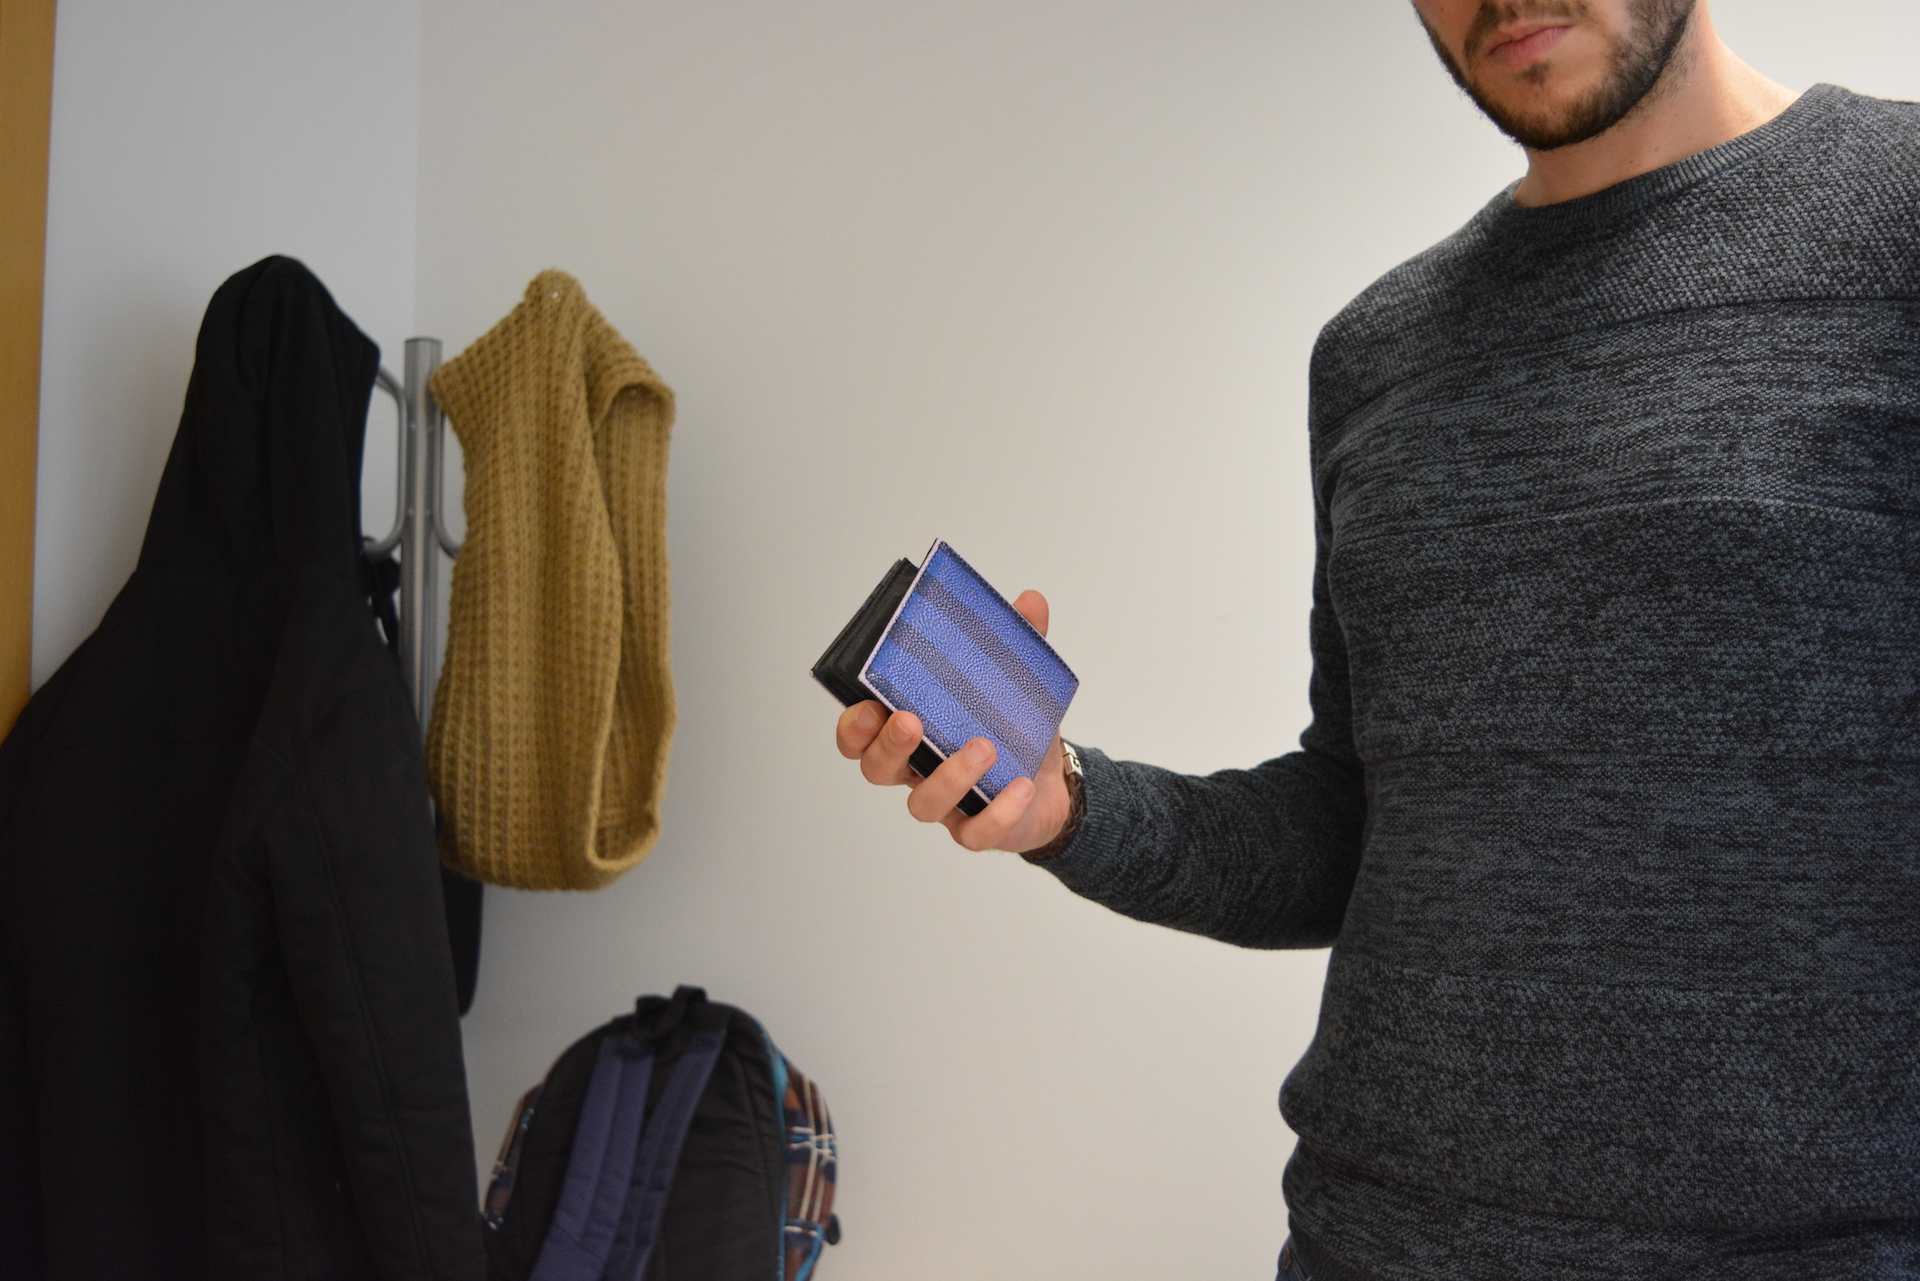monedero: (805, 536, 1082, 819)
